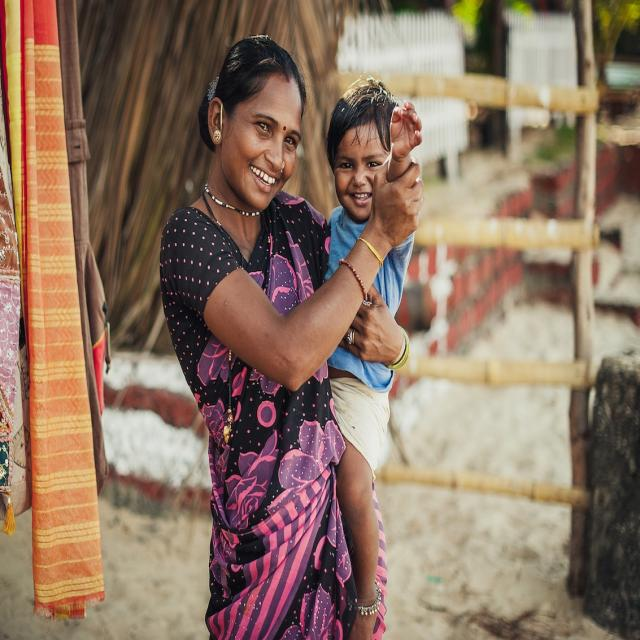adult: (157, 33, 423, 640)
child: (317, 74, 422, 640)
